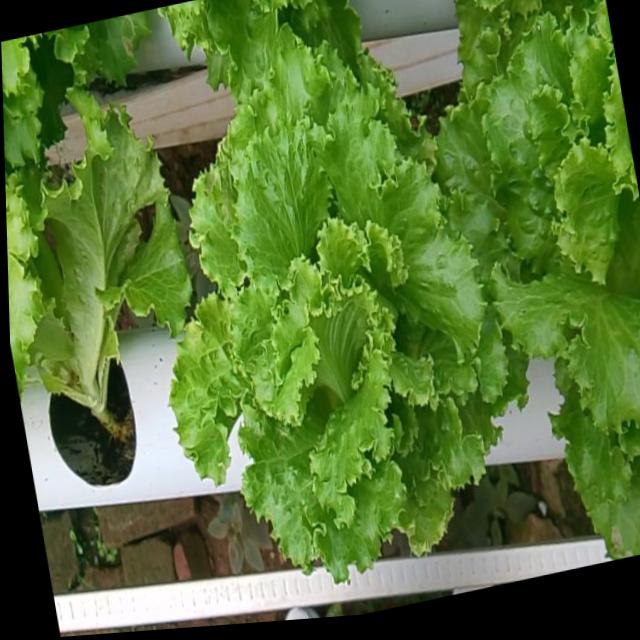Mature: (165, 57, 504, 599), (431, 29, 640, 459)
